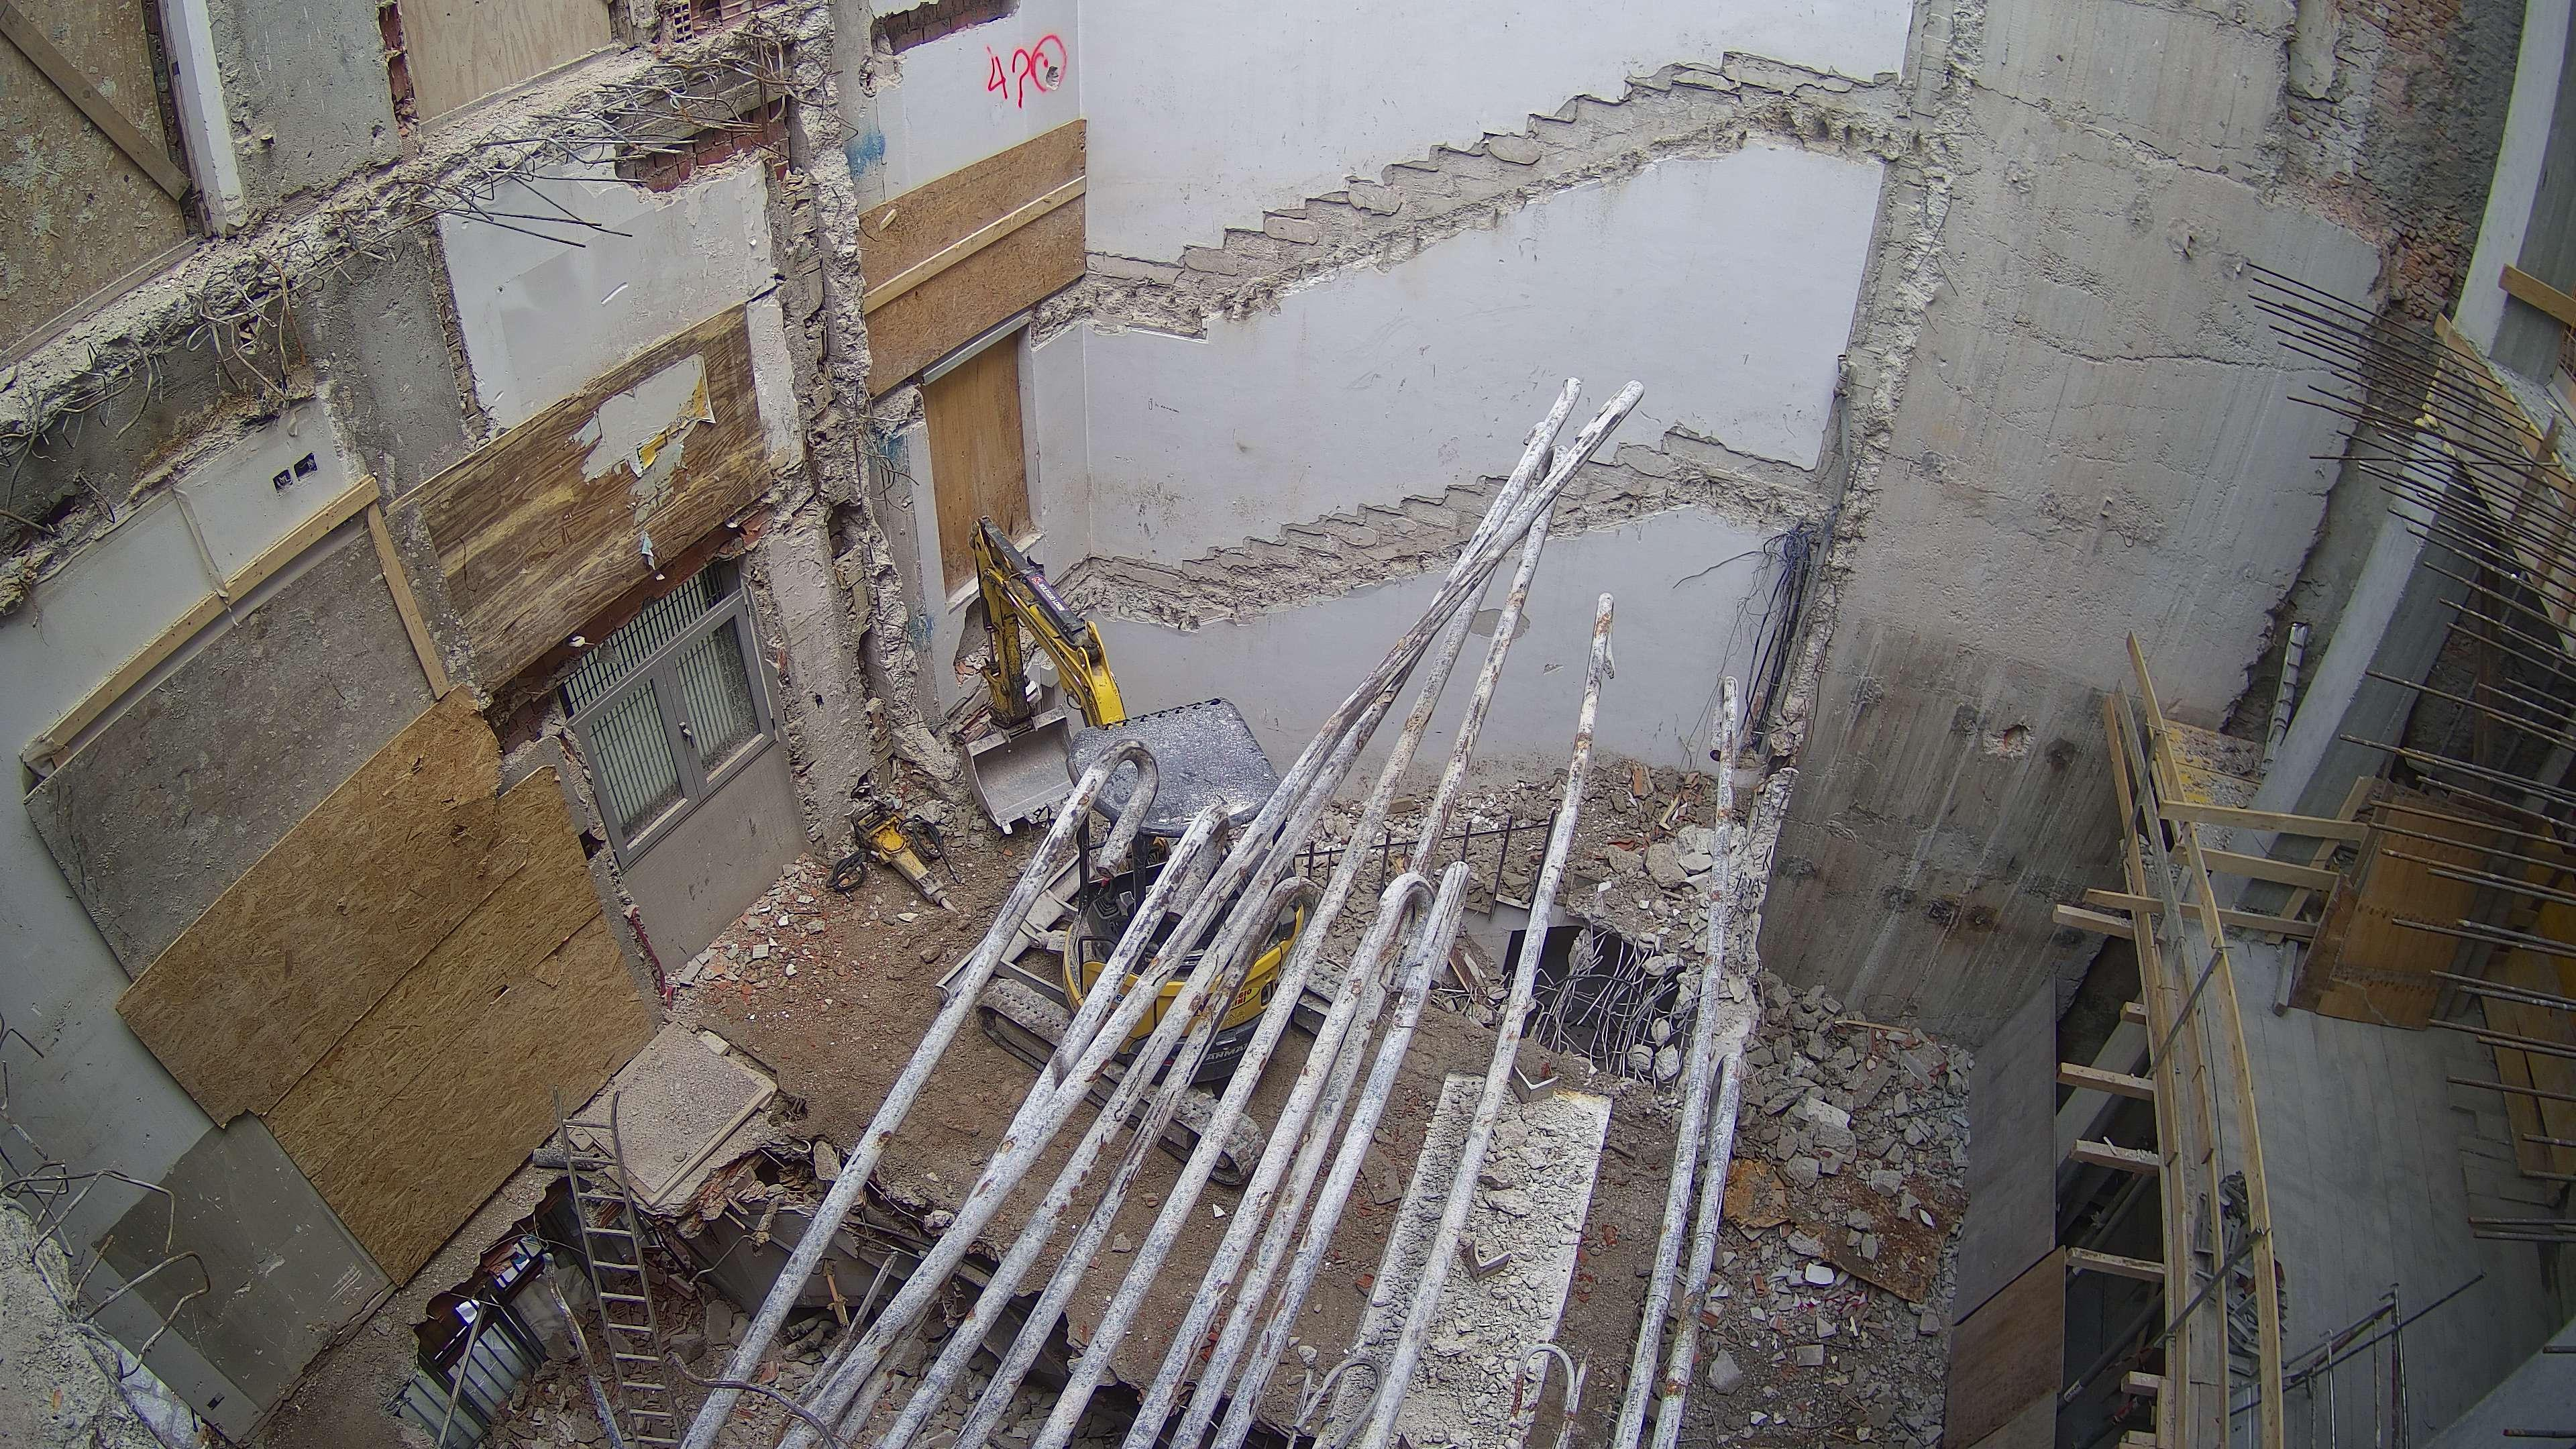excavator: (927, 513, 1350, 1187)
